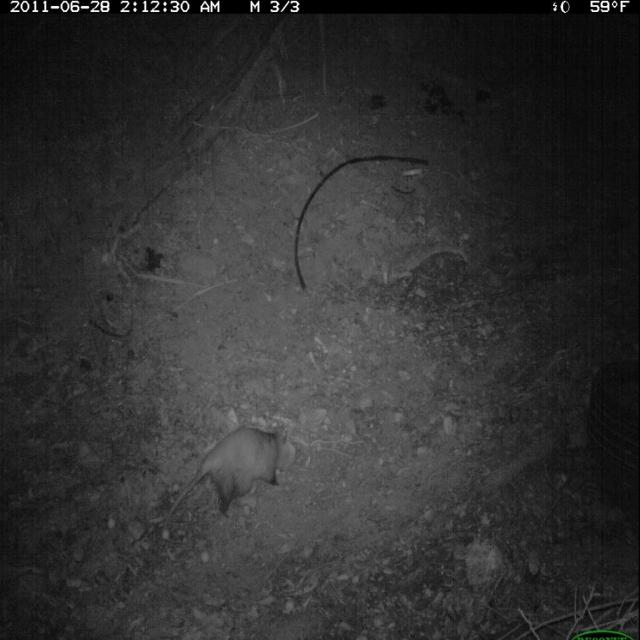opossum: (157, 416, 298, 530)
